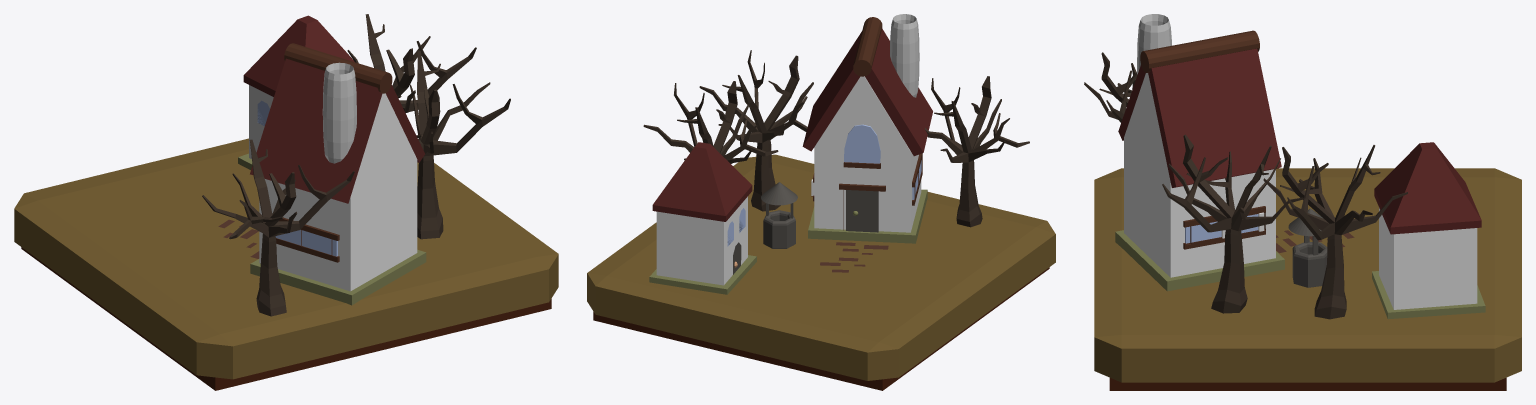
The model's file is destroyed_dorf.fbx.
3 renders of one model, left to right at view 1: azimuth 30°, elevation 25°; view 2: azimuth 150°, elevation 25°; view 3: azimuth 270°, elevation 25°, orthographic. The views are drawn at different scales.
Parts seen in each view (by area): view 1: Cube.001, Cylinder, Cube.003, Cube.027, Cube.028, Cube, Torus, dach, Cube.026, Cube.005, Cylinder.001, Cube.009 (+2 smaller); view 2: Cube.001, Cylinder, haus, dach, Cube.027, Cube.028, Cube.003, Cube.026, Cube, Cube.002, Torus, brunnen (+6 smaller); view 3: Cube.001, Cube.002, Cylinder, haus, dach, Cube.028, Cube.026, Cube, Cylinder.001, Cube.005, brunnen, Cube.023 (+5 smaller).
Boxes of the visible parts, x1,y1,x2,y2 form: Cube.001: (14, 138, 558, 379); Cylinder: (259, 93, 417, 291); Cube.003: (250, 58, 382, 203); Cube.027: (202, 139, 354, 316); Cube.028: (410, 51, 510, 239); Cube: (21, 247, 551, 390); Torus: (322, 62, 356, 163); dach: (243, 15, 354, 96); Cube.026: (347, 14, 476, 112); Cube.005: (250, 249, 426, 305); Cylinder.001: (284, 43, 392, 93); Cube.009: (275, 229, 337, 256); Cube.001: (587, 154, 1055, 380); Cylinder: (814, 76, 921, 232); haus: (656, 196, 747, 285); dach: (652, 142, 752, 221); Cube.027: (925, 76, 1029, 227); Cube.028: (699, 50, 813, 211); Cube.003: (865, 28, 932, 156); Cube.026: (643, 81, 778, 163); Cube: (593, 267, 1049, 390); Cube.002: (802, 31, 861, 151); Torus: (890, 14, 919, 97); brunnen: (761, 182, 797, 248); Cube.001: (1094, 168, 1521, 382); Cube.002: (1148, 48, 1281, 187); Cylinder: (1124, 73, 1275, 277); haus: (1379, 207, 1477, 309); dach: (1374, 142, 1481, 234); Cube.028: (1162, 134, 1303, 313); Cube.026: (1263, 145, 1407, 319); Cube: (1109, 377, 1506, 390); Cylinder.001: (1140, 30, 1259, 72); Cube.005: (1115, 230, 1284, 291); brunnen: (1288, 208, 1327, 287); Cube.023: (1372, 271, 1485, 319).
Bounding box in the file's own units: 108 × 76.87 × 110.
